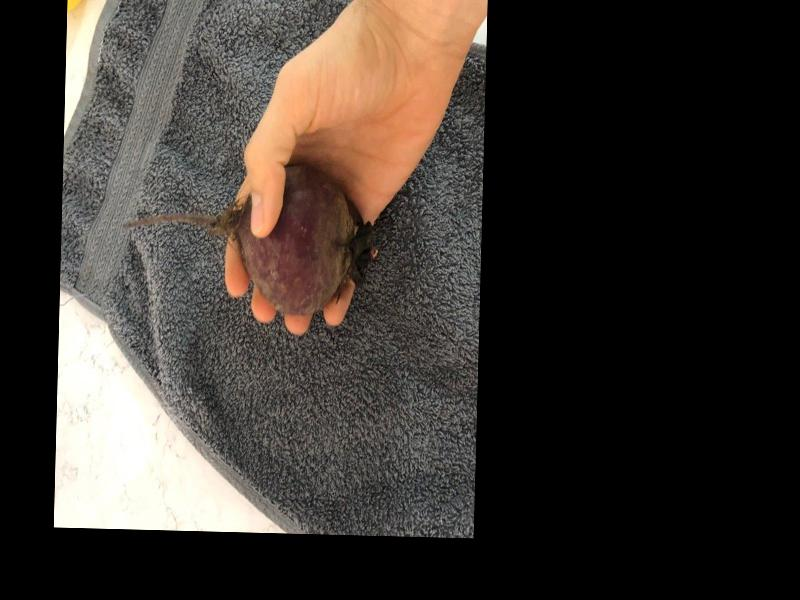Beet: (121, 159, 374, 318)
